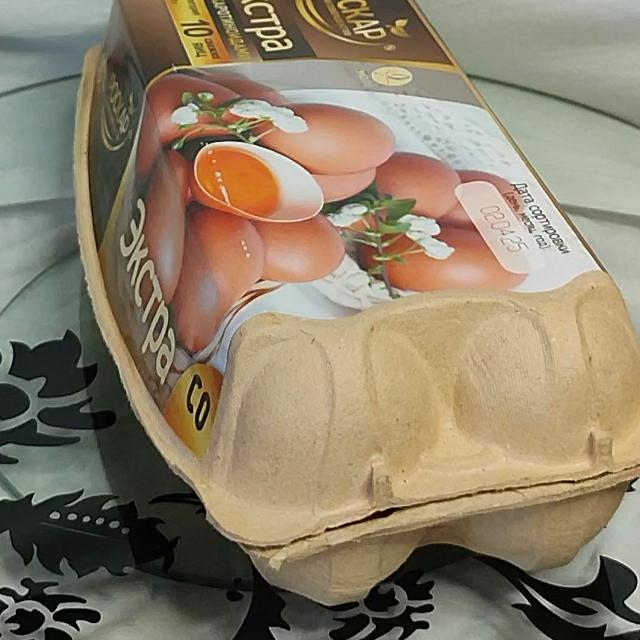egg: (69, 0, 640, 599)
